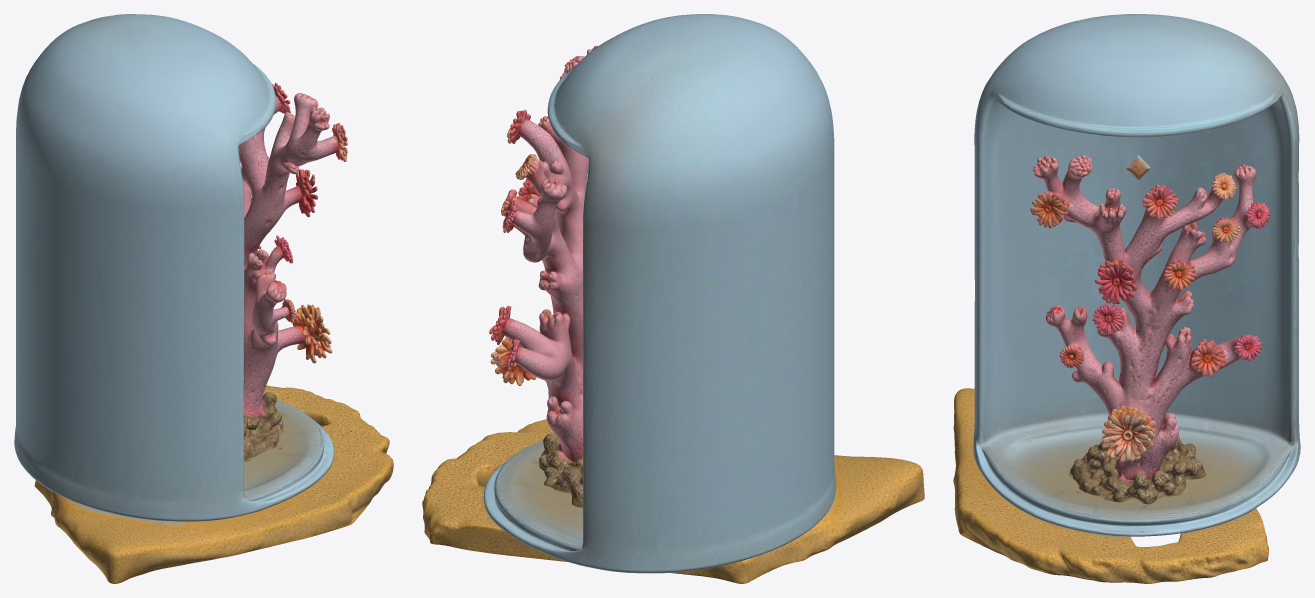
3 views of the same model, side by side, from view 1: azimuth 30°, elevation 25°; view 2: azimuth 150°, elevation 25°; view 3: azimuth 270°, elevation 25° (orthographic). The views are drawn at different scales.
Size of the model in its own units: 0.788 by 0.9803 by 0.6849.
1 material, 1 textured.
